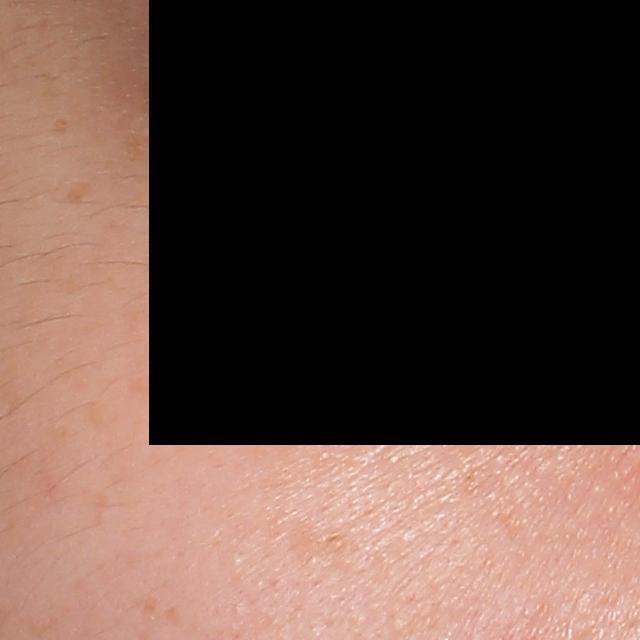melasma: (61, 179, 97, 203), (49, 114, 70, 135)
